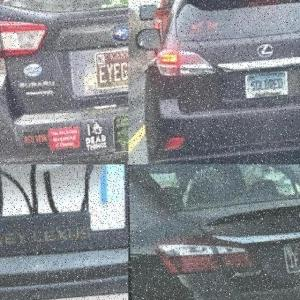Plate: (0, 165, 126, 251), (93, 51, 128, 92), (244, 73, 288, 100), (282, 245, 300, 276)
